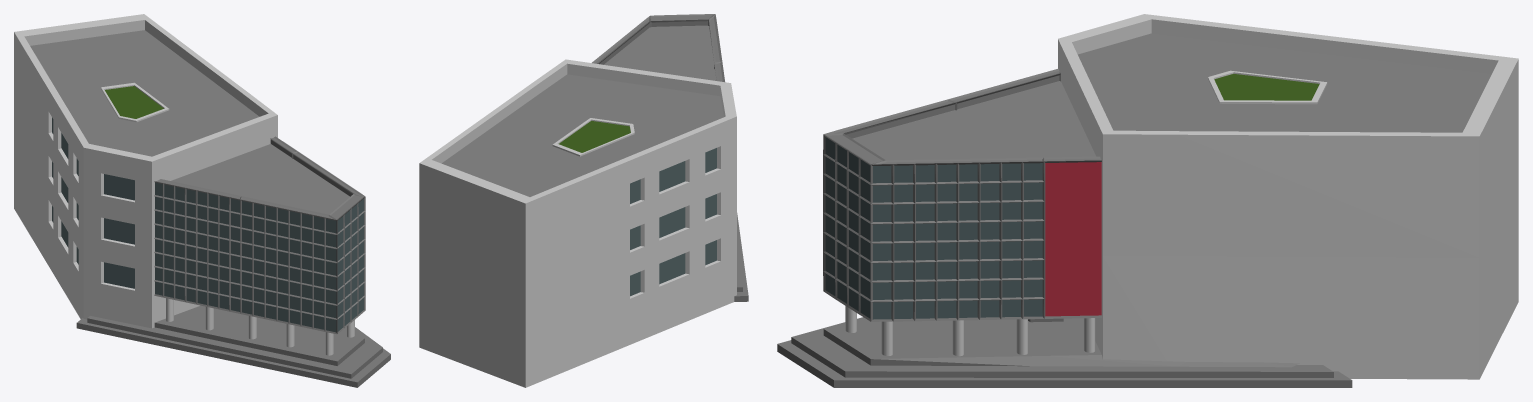
Rendered from oficinas2.dae.
3 renders of one model, left to right at view 1: azimuth 30°, elevation 25°; view 2: azimuth 150°, elevation 25°; view 3: azimuth 270°, elevation 25°, orthographic. The views are drawn at different scales.
Parts seen in each view (by area): view 1: cube_023; view 2: cube_023; view 3: cube_023.
Part boxes in pixels (x1,y1,x2,y2): cube_023: [14, 14, 390, 387]; cube_023: [419, 14, 748, 387]; cube_023: [777, 14, 1518, 387].
Size of the model in its own units: 249 by 570 by 206.
